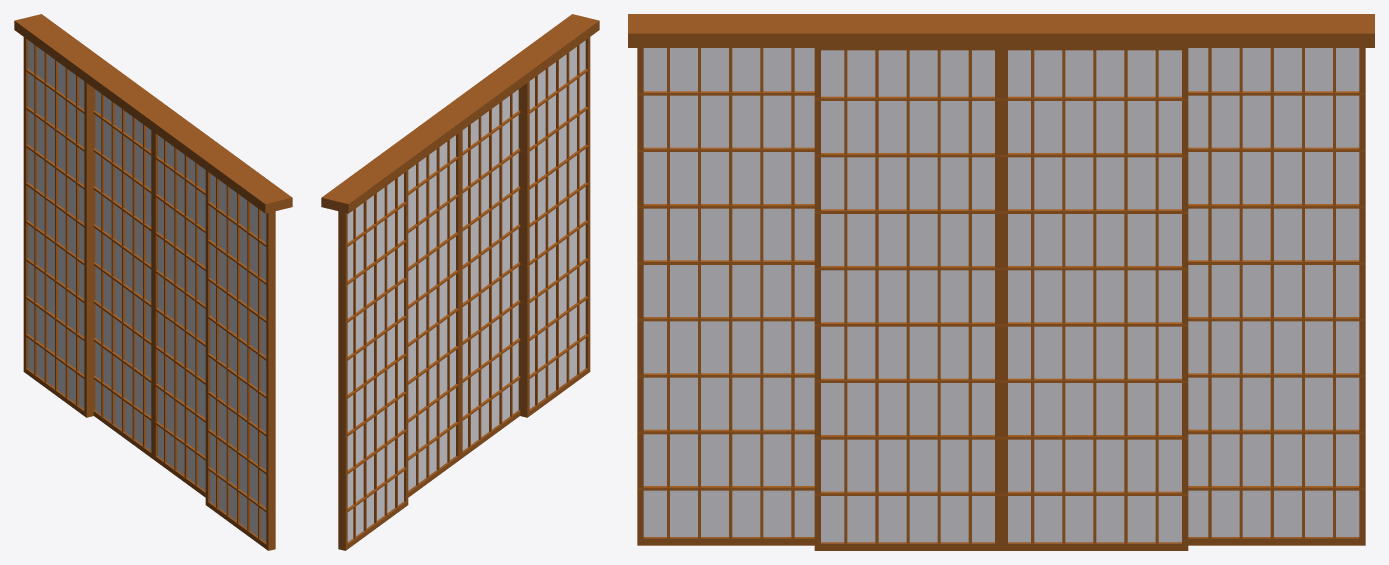
The model's file is Shoji Blinds (Sliding Doors).fbx.
The picture shows the model from 3 angles, left to right: view 1: azimuth 30°, elevation 25°; view 2: azimuth 150°, elevation 25°; view 3: azimuth 270°, elevation 25°; orthographic projection. The views are drawn at different scales.
Visible parts, largest first — view 1: Frame, Right_Door, Left_Door; view 2: Frame, Left_Door, Right_Door; view 3: Frame, Left_Door, Right_Door.
Boxes of the visible parts, box(x1,y1,x2,y2) form: Frame: box(14, 14, 292, 550); Right_Door: box(93, 88, 153, 459); Left_Door: box(153, 132, 205, 497); Frame: box(321, 14, 599, 550); Left_Door: box(460, 88, 520, 459); Right_Door: box(408, 132, 460, 497); Frame: box(628, 14, 1374, 545); Left_Door: box(814, 48, 1001, 550); Right_Door: box(1001, 48, 1188, 550).
Bounding box in the file's own units: 15 × 185 × 240.
